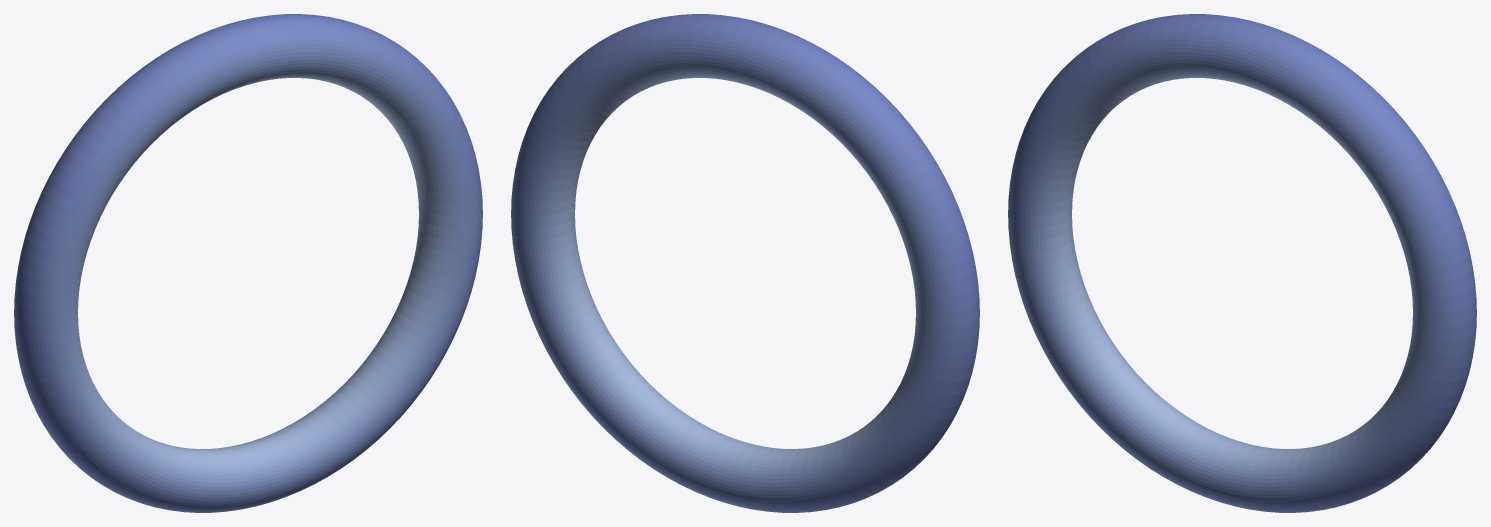
3 views of the same model, side by side, from view 1: azimuth 30°, elevation 25°; view 2: azimuth 150°, elevation 25°; view 3: azimuth 330°, elevation 25° (orthographic).
Parts seen in each view (by area): view 1: world; view 2: world; view 3: world.
Boxes of the visible parts, box(x1,y1,x2,y2) form: world: box(14, 14, 482, 512); world: box(511, 14, 979, 512); world: box(1008, 14, 1476, 512).
Bounding box in the file's own units: 24 × 24 × 2.88.
